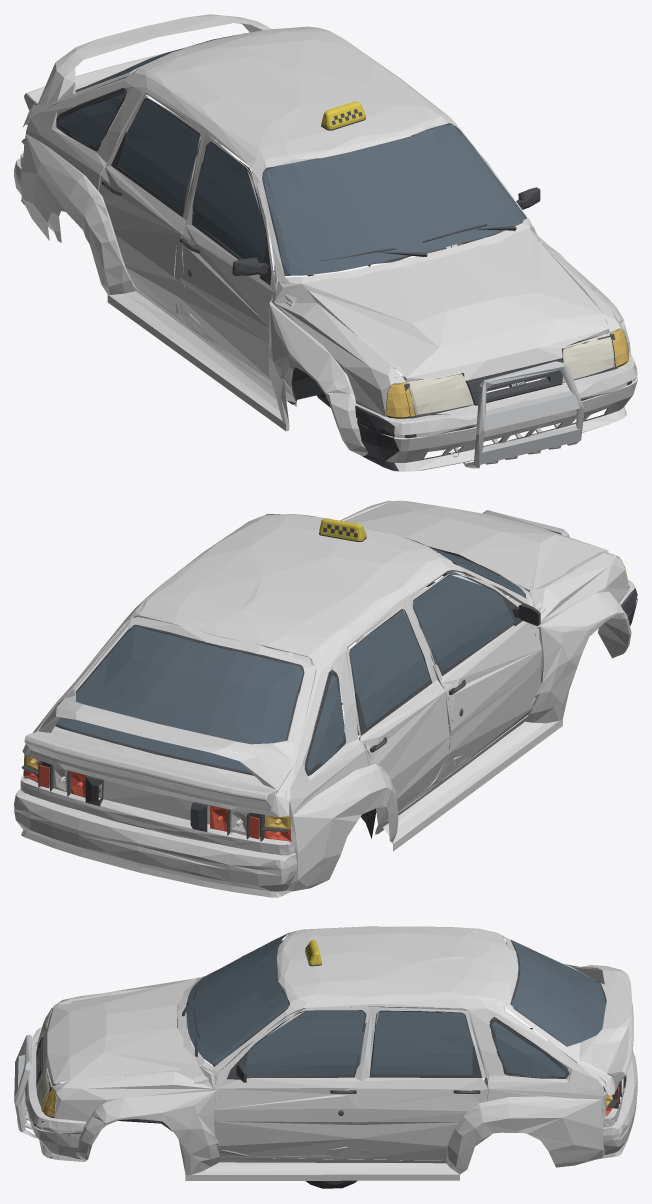
File: oda.glb
3 views of the same model, one above another, from view 1: azimuth 30°, elevation 25°; view 2: azimuth 150°, elevation 25°; view 3: azimuth 270°, elevation 25° (orthographic). The views are drawn at different scales.
Visible parts, largest first — view 1: paint, detail, o-kit-wide-paint, o-front-paint-paint, o-front-bullbar-detail, o-lamps-stock-lights, o-spoiler-wing-paint, o-front-tune-detail, o-spoiler-lip-paint, o-taxi-taxi-lights; view 2: paint, detail, o-kit-wide-paint, o-rear-paint-paint, o-spoiler-lip-paint, o-spoiler-wing-paint, lights, o-taxi-taxi-lights; view 3: paint, detail, o-kit-wide-paint, o-spoiler-wing-paint, o-front-paint-paint, o-rear-paint-paint, o-front-bullbar-detail, o-spoiler-lip-paint, o-lamps-stock-lights.
Boxes of the visible parts, left/top/right/bottom form: paint: left=20, top=26, right=625, bottom=457; detail: left=21, top=32, right=563, bottom=405; o-kit-wide-paint: left=21, top=134, right=630, bottom=456; o-front-paint-paint: left=356, top=352, right=637, bottom=471; o-front-bullbar-detail: left=453, top=361, right=584, bottom=468; o-lamps-stock-lights: left=386, top=329, right=629, bottom=417; o-spoiler-wing-paint: left=37, top=14, right=271, bottom=104; o-front-tune-detail: left=355, top=367, right=635, bottom=470; o-spoiler-lip-paint: left=24, top=53, right=164, bottom=110; o-taxi-taxi-lights: left=321, top=101, right=365, bottom=129; paint: left=20, top=500, right=629, bottom=855; detail: left=21, top=514, right=540, bottom=841; o-kit-wide-paint: left=23, top=591, right=631, bottom=891; o-rear-paint-paint: left=14, top=789, right=296, bottom=897; o-spoiler-lip-paint: left=24, top=730, right=277, bottom=811; o-spoiler-wing-paint: left=38, top=687, right=293, bottom=790; lights: left=24, top=754, right=290, bottom=841; o-taxi-taxi-lights: left=319, top=518, right=366, bottom=540; paint: left=43, top=926, right=624, bottom=1163; detail: left=36, top=932, right=626, bottom=1131; o-kit-wide-paint: left=76, top=1089, right=605, bottom=1180; o-spoiler-wing-paint: left=564, top=964, right=631, bottom=1073; o-front-paint-paint: left=25, top=1027, right=86, bottom=1161; o-rear-paint-paint: left=548, top=1040, right=637, bottom=1159; o-front-bullbar-detail: left=14, top=1034, right=36, bottom=1137; o-spoiler-lip-paint: left=604, top=984, right=633, bottom=1087; o-lamps-stock-lights: left=36, top=1008, right=56, bottom=1116.
Bounding box in the file's own units: 1.85 × 1.76 × 4.14.
